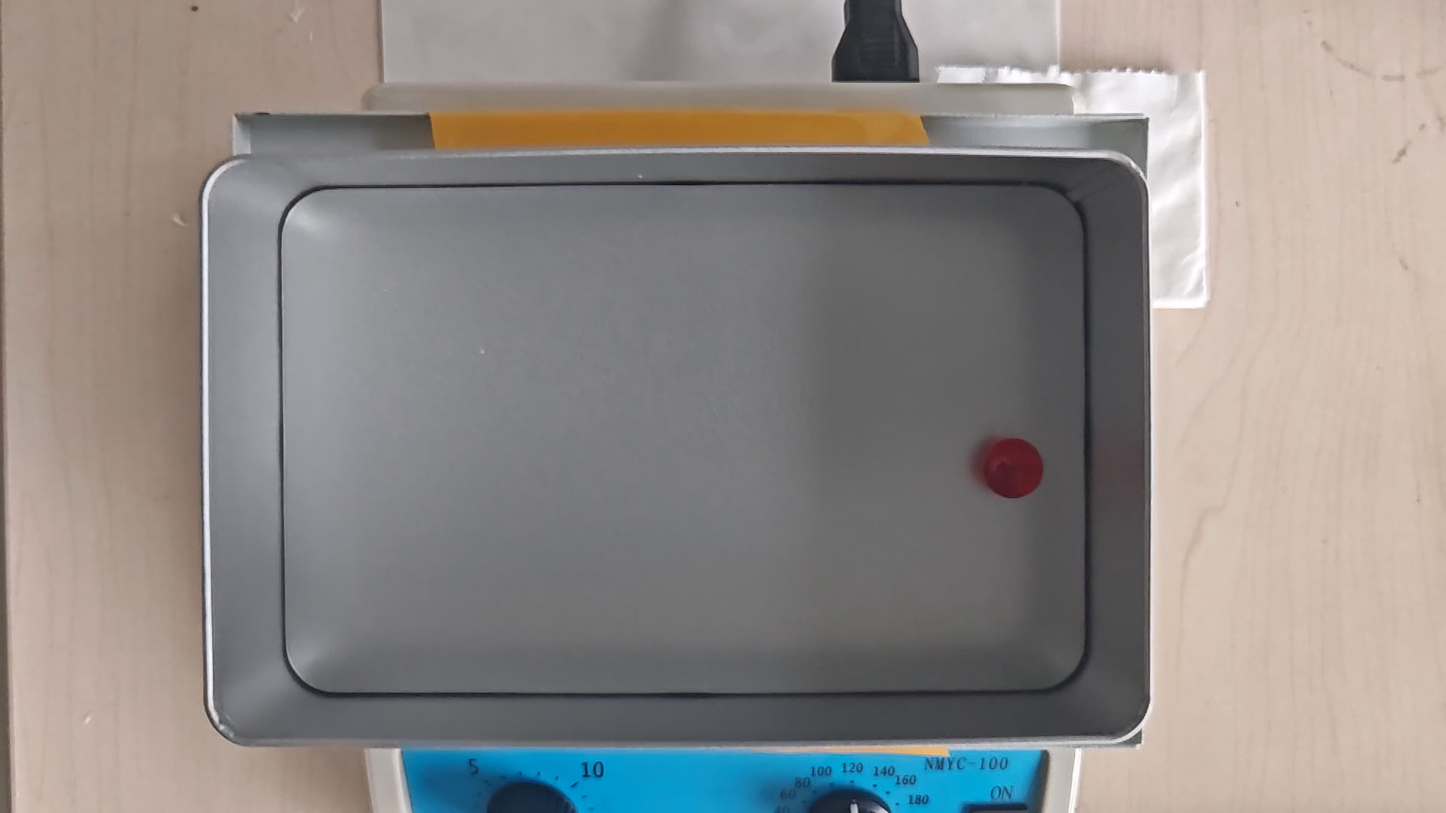ball: (984, 437, 1045, 499)
container: (279, 186, 1088, 693)
